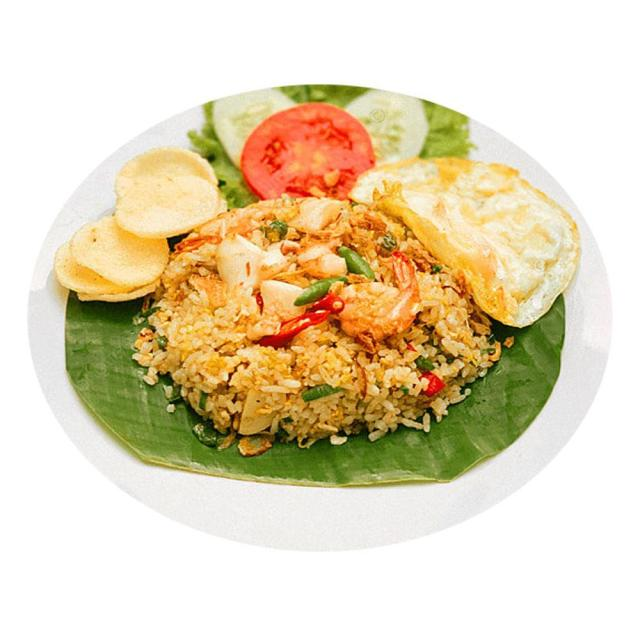Nasi Goreng: (142, 218, 511, 444)
